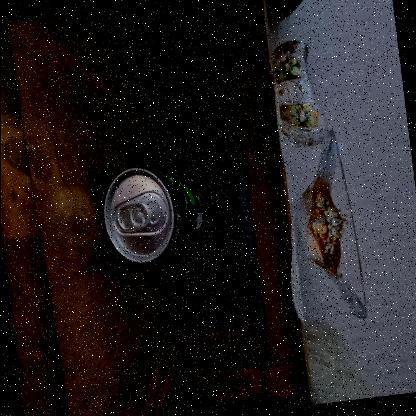Can: (101, 166, 201, 264)
